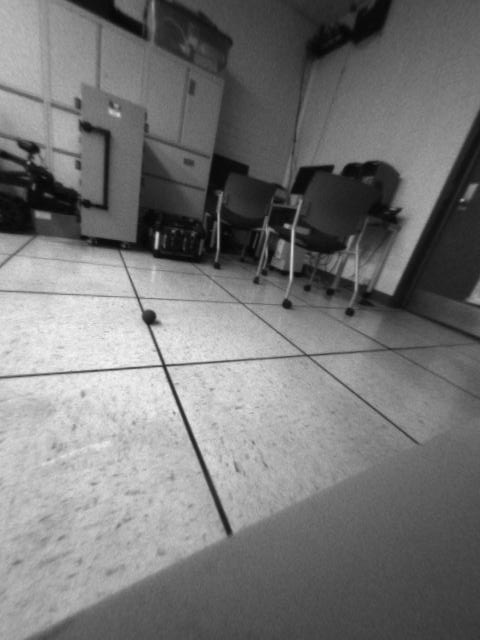dogtoy: (138, 304, 159, 327)
